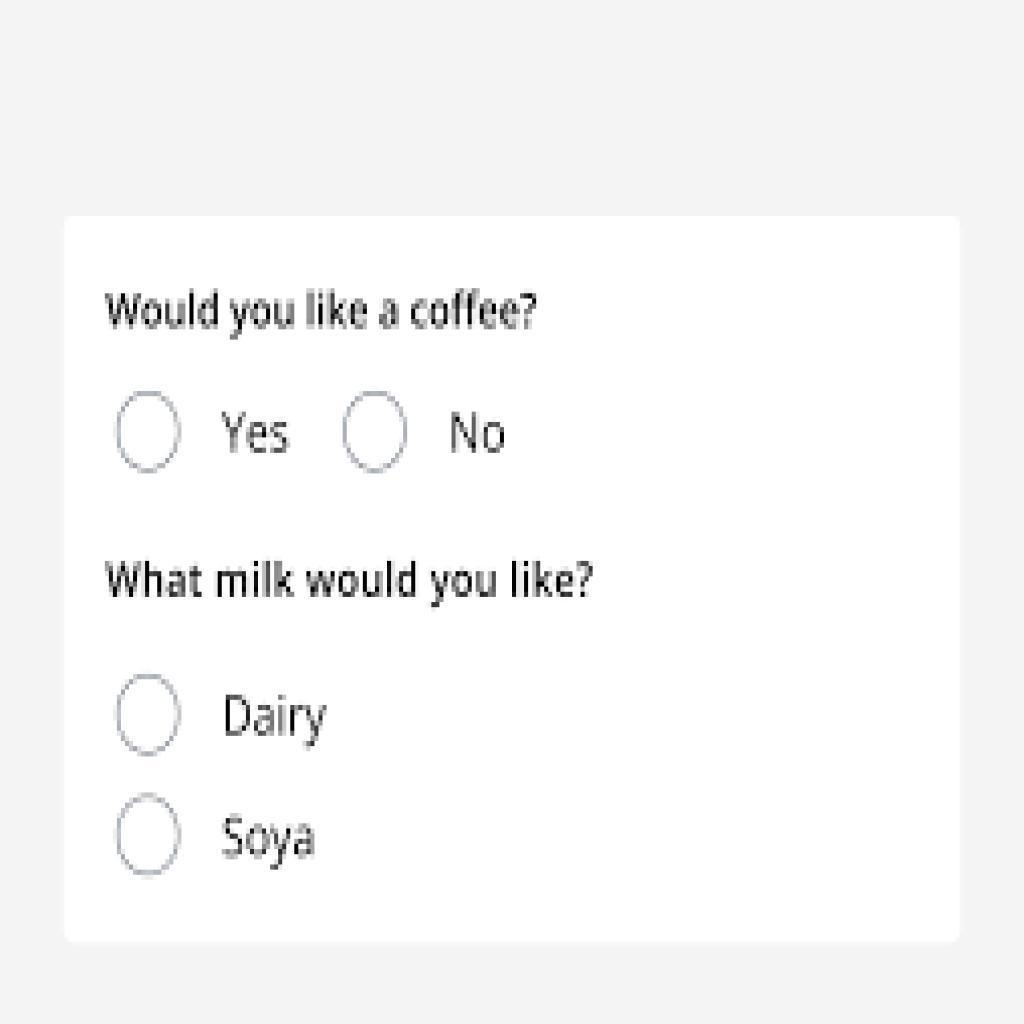label: (104, 551, 597, 614), (102, 279, 540, 343), (223, 690, 330, 754), (217, 806, 322, 866), (214, 410, 298, 465), (445, 405, 511, 459)
radio: (112, 787, 190, 881), (111, 390, 184, 478), (115, 673, 187, 756), (346, 391, 408, 479)
